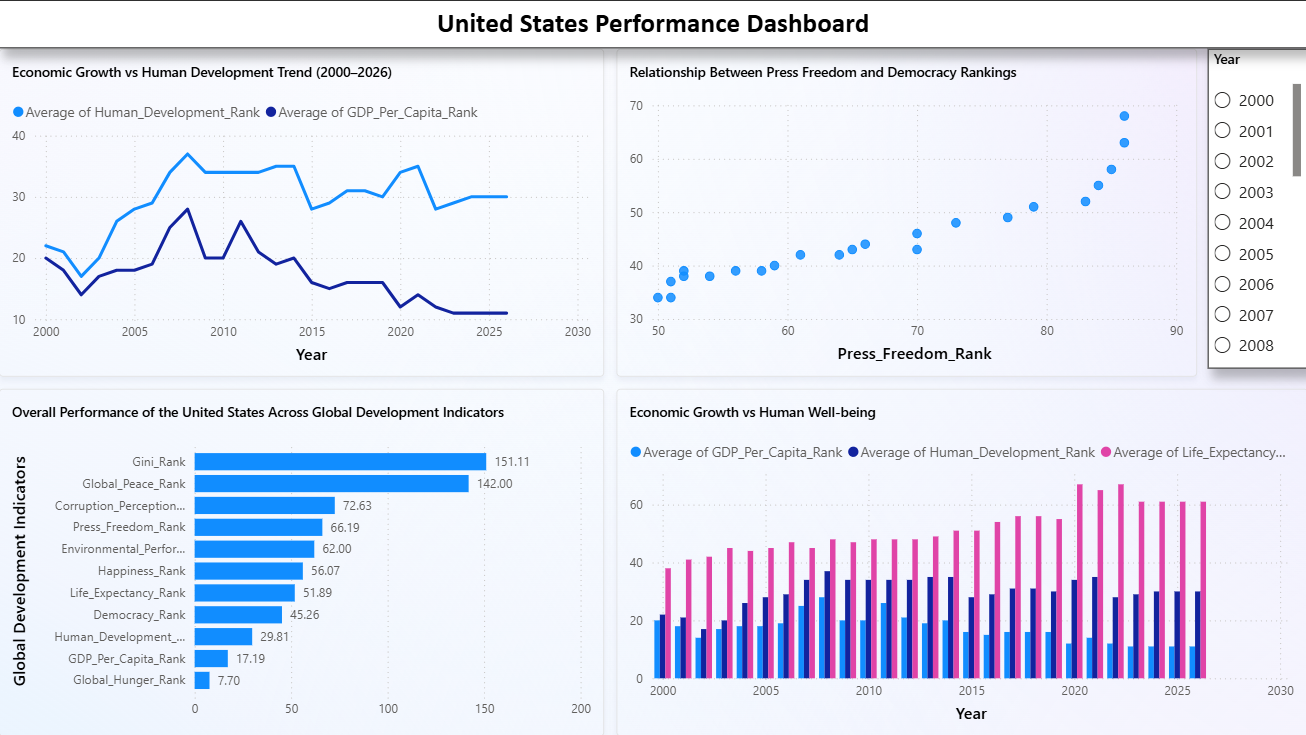

Layout of this report page (visuals, bound fields, positions):
{"tool":"powerbi","page":{"name":"United States: Indicator Performance & Insights","canvas":[1280,720],"ordinal":1},"visuals":[{"type":"lineChart","title":"Economic Growth vs Human Development Trend (2000–2026)","fields":{"Category":["United_States.Year"],"Y":["Avg(United_States.Human_Development_Rank)","Avg(United_States.GDP_Per_Capita_Rank)"]},"box":[0,47.3,592.1,321.1],"z":0},{"type":"scatterChart","title":"Relationship Between Press Freedom and Democracy Rankings","fields":{"Y":["United_States.Democracy_Rank"],"X":["United_States.Press_Freedom_Rank"]},"box":[603.6,47.3,567.7,321.1],"z":2},{"type":"clusteredColumnChart","title":"Economic Growth vs Human Well-being","fields":{"Category":["United_States.Year"],"Y":["Avg(United_States.GDP_Per_Capita_Rank)","Avg(United_States.Human_Development_Rank)","Avg(United_States.Life_Expectancy_Rank)"]},"box":[603.6,379.9,676.7,339.8],"z":3},{"type":"clusteredBarChart","title":"Overall Performance of the United States Across Global Development Indicators","fields":{"Category":["United_States_Unpivot.Attribute"],"Y":["Avg(United_States_Unpivot.Value)"]},"box":[0,379.9,592.1,339.8],"z":4},{"type":"listSlicer","fields":{"Values":["United_States_Unpivot.Year"]},"box":[1182.8,47.3,97.5,312.5],"z":5},{"type":"textbox","box":[0,0,1280.3,47.3],"z":6}]}

Visuals, with their boxes in screenshot pixels (x1, y1, x2, y2), scaled from the page's 1280x720 canvas onto the 1306x735 screenshot:
"Economic Growth vs Human Development Trend (2000–2026)" lineChart: (left=0, top=48, right=604, bottom=376)
"Relationship Between Press Freedom and Democracy Rankings" scatterChart: (left=616, top=48, right=1195, bottom=376)
"Economic Growth vs Human Well-being" clusteredColumnChart: (left=616, top=388, right=1305, bottom=734)
"Overall Performance of the United States Across Global Development Indicators" clusteredBarChart: (left=0, top=388, right=604, bottom=734)
listSlicer - United_States_Unpivot.Year: (left=1207, top=48, right=1305, bottom=367)
textbox: (left=0, top=0, right=1305, bottom=48)
